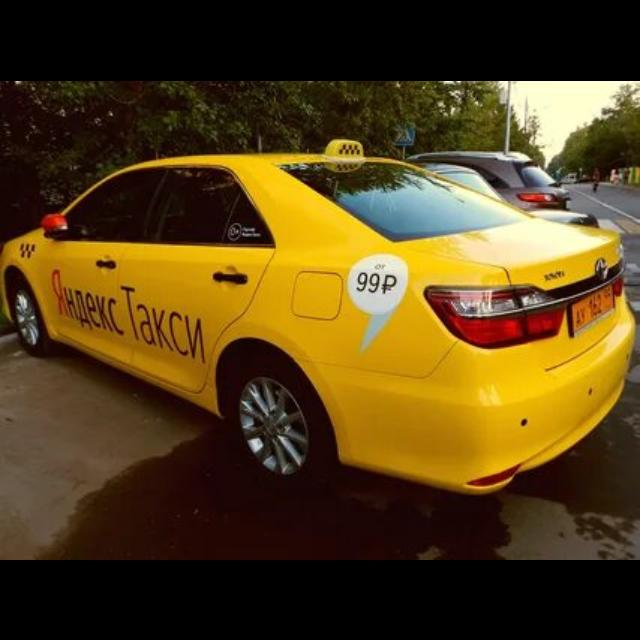taxi: (2, 137, 637, 496)
